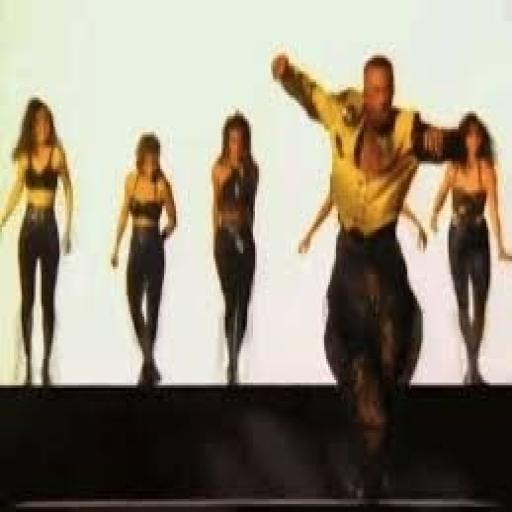dancing: (427, 110, 510, 390), (0, 95, 77, 388), (107, 129, 180, 388), (207, 108, 263, 388)
